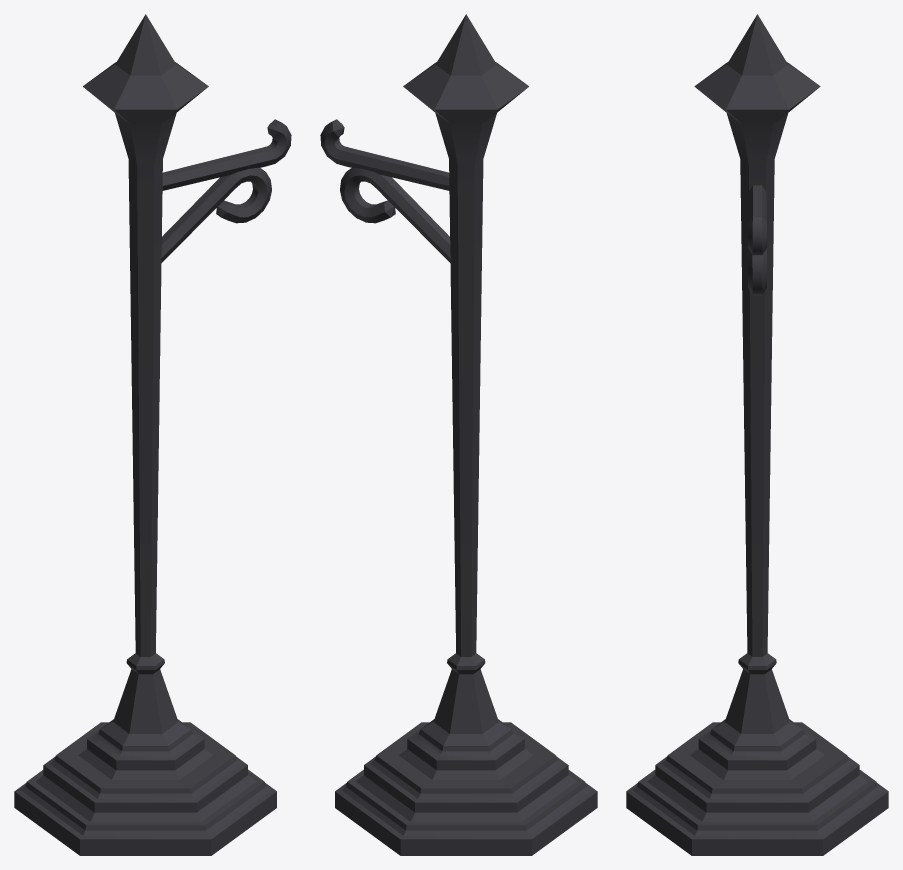
File: Lantern_Pole.fbx
3 views of the same model, side by side, from view 1: azimuth 30°, elevation 25°; view 2: azimuth 150°, elevation 25°; view 3: azimuth 270°, elevation 25° (orthographic).
Parts seen in each view (by area): view 1: Lantern_Pole; view 2: Lantern_Pole; view 3: Lantern_Pole.
Boxes of the visible parts, x1,y1,x2,y2 form: Lantern_Pole: [14, 14, 291, 855]; Lantern_Pole: [320, 14, 597, 855]; Lantern_Pole: [626, 14, 888, 855].
Size of the model in its own units: 38.55 by 121 by 36.25.
